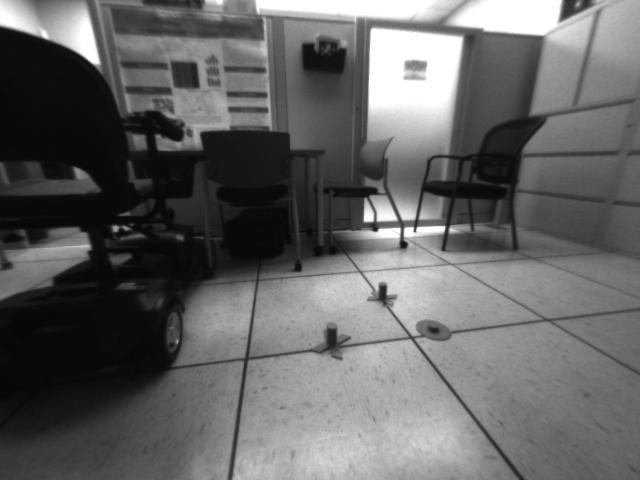X: (314, 320, 351, 359), (367, 283, 398, 308)
